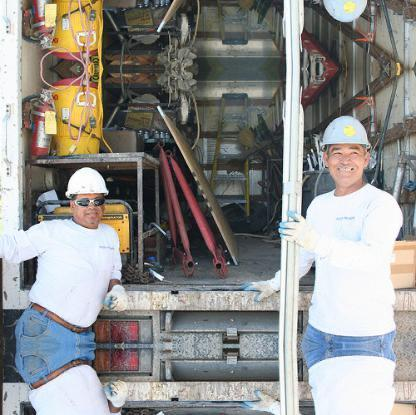helmet: (317, 114, 373, 150), (67, 168, 110, 201)
